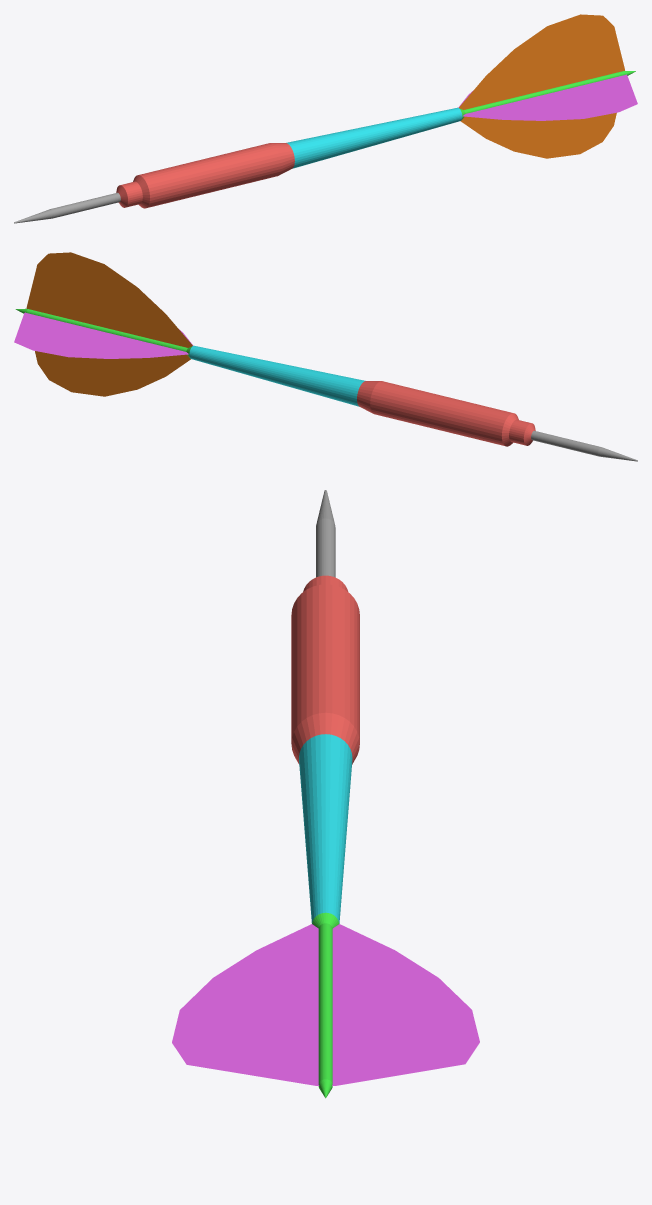
File: dart.glb
3 views of the same model, one above another, from view 1: azimuth 30°, elevation 25°; view 2: azimuth 150°, elevation 25°; view 3: azimuth 270°, elevation 25° (orthographic). The views are drawn at different scales.
Parts seen in each view (by area): view 1: Plane, Cylinder.001, Plane.001; view 2: Plane, Cylinder.001, Plane.001; view 3: Plane.001, Cylinder.001.
Boxes of the visible parts, bbox=[...] form: Plane: bbox=[459, 14, 624, 158]; Cylinder.001: bbox=[14, 71, 635, 223]; Plane.001: bbox=[458, 74, 637, 120]; Plane: bbox=[26, 252, 192, 396]; Cylinder.001: bbox=[15, 308, 637, 461]; Plane.001: bbox=[14, 312, 193, 358]; Plane.001: bbox=[172, 924, 479, 1085]; Cylinder.001: bbox=[291, 490, 359, 1098].
Size of the model in its own units: 4.39 by 0.9424 by 0.9424.
